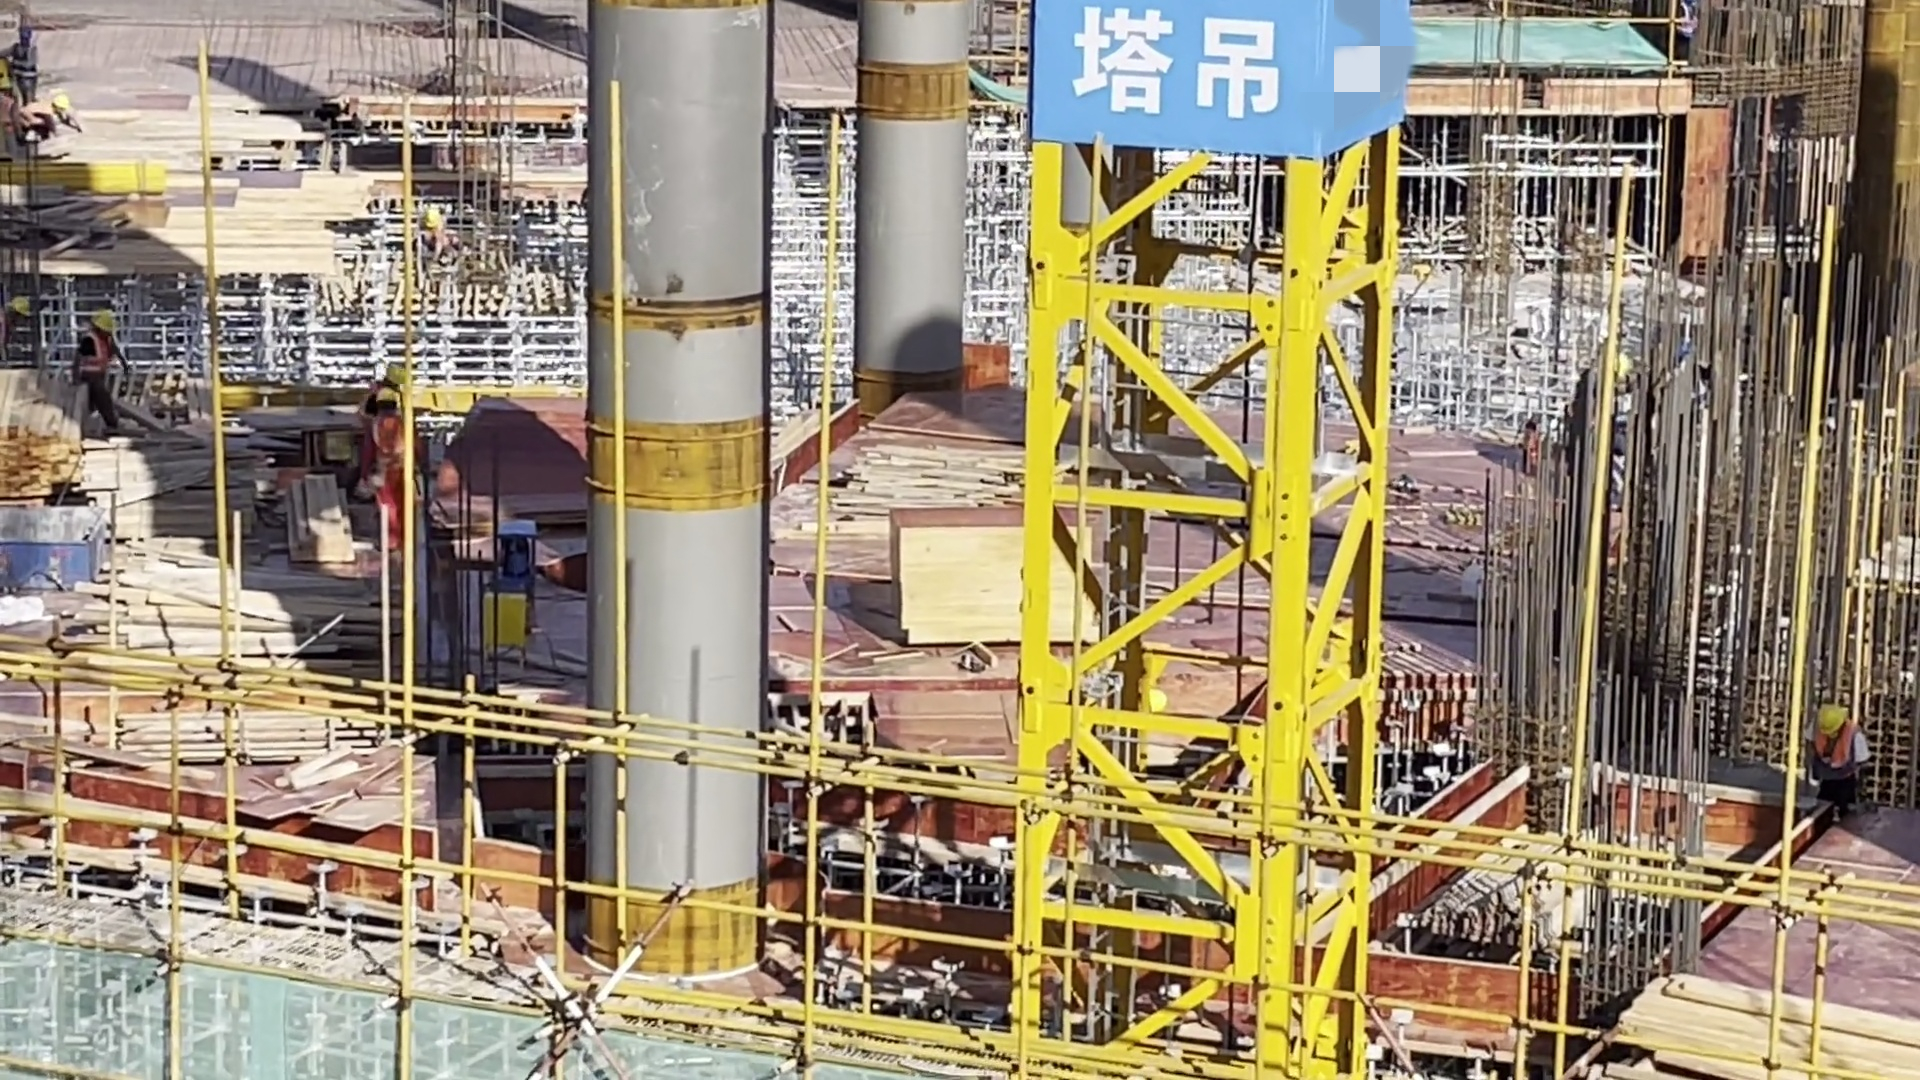board: (893, 502, 1115, 666)
helmet: (1812, 703, 1857, 747), (90, 306, 115, 339), (376, 386, 404, 411), (17, 26, 35, 46)
hopper: (1, 496, 108, 607)
person: (1800, 694, 1876, 829), (368, 376, 419, 562), (80, 301, 129, 438), (12, 90, 84, 154), (11, 20, 51, 111), (1673, 1, 1705, 69)
slogan: (1034, 1, 1402, 152)
vest: (1806, 722, 1869, 783), (365, 416, 417, 485), (82, 328, 115, 386), (1670, 1, 1705, 44), (12, 44, 37, 82)
wood: (98, 531, 394, 666), (1, 371, 90, 496), (280, 473, 362, 576)
